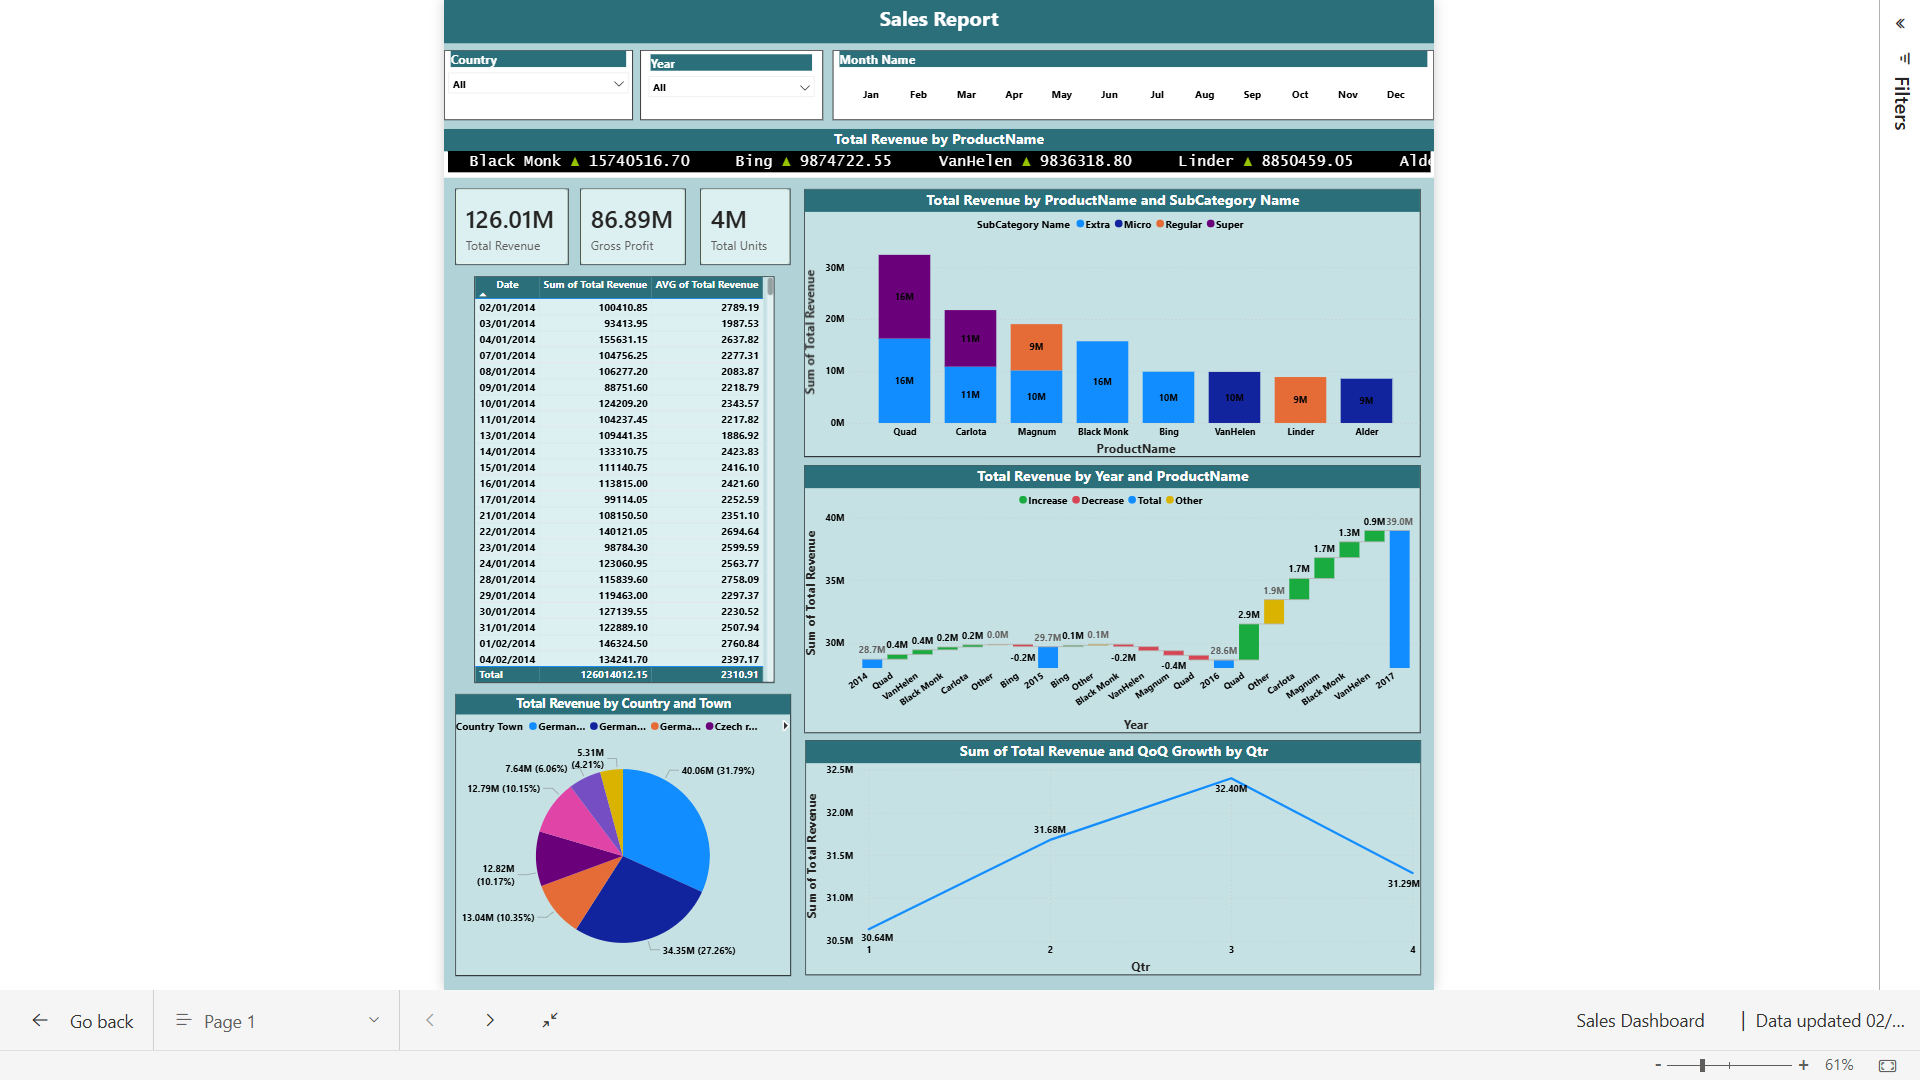

What the dashboard file says about the page in this screenshot:
{"tool":"powerbi","page":{"name":"Page 1","canvas":[1300,1300],"ordinal":0},"visuals":[{"type":"textbox","box":[0,0,1300.2,56.9],"z":0},{"type":"slicer","fields":{"Values":["Geography.Country"]},"box":[0,65.4,248.2,92],"z":1000},{"type":"slicer","fields":{"Values":["DateMaster.Year"]},"box":[257.9,65.4,239.7,92],"z":2000},{"type":"slicer","fields":{"Values":["DateMaster.Month Name"]},"box":[510.9,65.4,789.3,92],"z":3000},{"type":"cardVisual","fields":{"Data":["Sum(Sales.Total Revenue)"]},"box":[14.3,248.6,148.6,100],"z":4000},{"type":"cardVisual","fields":{"Data":["Sum(Sales.Gross Profit)"]},"box":[178.6,248.6,138.6,100],"z":5000},{"type":"cardVisual","fields":{"Data":["Sum(Sales.Units)"]},"box":[337.1,248.6,118.6,100],"z":6000},{"type":"pieChart","title":"Total Revenue by Country and Town","fields":{"Y":["Sum(Sales.Total Revenue)"],"Category":["Geography.Country","Geography.Town"]},"box":[14.5,910.4,440.7,370.5],"z":7000},{"type":"ScrollingTextVisual1448795304508","title":"Total Revenue by ProductName","fields":{"Category":["Product.ProductName"],"Measure Deviation":["Sum(Sales.Total Revenue)"]},"box":[0,168.3,1300.2,63],"z":8000},{"type":"waterfallChart","title":"Total Revenue by Year and ProductName","fields":{"Category":["DateMaster.Year"],"Y":["Sum(Sales.Total Revenue)"],"Breakdown":["Product.ProductName"]},"box":[473.4,611.4,809.9,352.3],"z":10000},{"type":"columnChart","title":"Total Revenue by ProductName and SubCategory Name","fields":{"Category":["Product.ProductName"],"Y":["Sum(Sales.Total Revenue)"],"Series":["Sub categories.SubCategory Name"]},"box":[473.4,248.2,809.9,352.3],"z":11000},{"type":"lineChart","fields":{"Category":["DateMaster.Qtr"],"Y":["Sum(Sales.Total Revenue)"]},"box":[474.6,972.2,808.7,308.7],"z":12000},{"type":"tableEx","fields":{"Values":["DateMaster.Date","Sum(Sales.Total Revenue)","Avg(Sales.Total Revenue)"]},"box":[38.7,363.2,394.7,533.9],"z":13000}]}

Visuals, with their boxes on the page's 1300x1300 design canvas (x1, y1, x2, y2). These are canvas units, not pixel positions in the 1920x1080 screenshot, which may show the page scaled, cropped or inside an application window:
textbox: crop(0, 0, 1300, 57)
slicer - Geography.Country: crop(0, 65, 248, 157)
slicer - DateMaster.Year: crop(258, 65, 498, 157)
slicer - DateMaster.Month Name: crop(511, 65, 1300, 157)
cardVisual - Sum(Sales.Total Revenue): crop(14, 249, 163, 349)
cardVisual - Sum(Sales.Gross Profit): crop(179, 249, 317, 349)
cardVisual - Sum(Sales.Units): crop(337, 249, 456, 349)
"Total Revenue by Country and Town" pieChart: crop(14, 910, 455, 1281)
"Total Revenue by ProductName" ScrollingTextVisual1448795304508: crop(0, 168, 1300, 231)
"Total Revenue by Year and ProductName" waterfallChart: crop(473, 611, 1283, 964)
"Total Revenue by ProductName and SubCategory Name" columnChart: crop(473, 248, 1283, 600)
lineChart - DateMaster.Qtr x Sum(Sales.Total Revenue): crop(475, 972, 1283, 1281)
tableEx - DateMaster.Date x Sum(Sales.Total Revenue): crop(39, 363, 433, 897)
